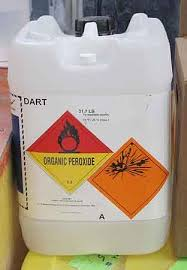OrganicPeroxide: (25, 111, 115, 194)
